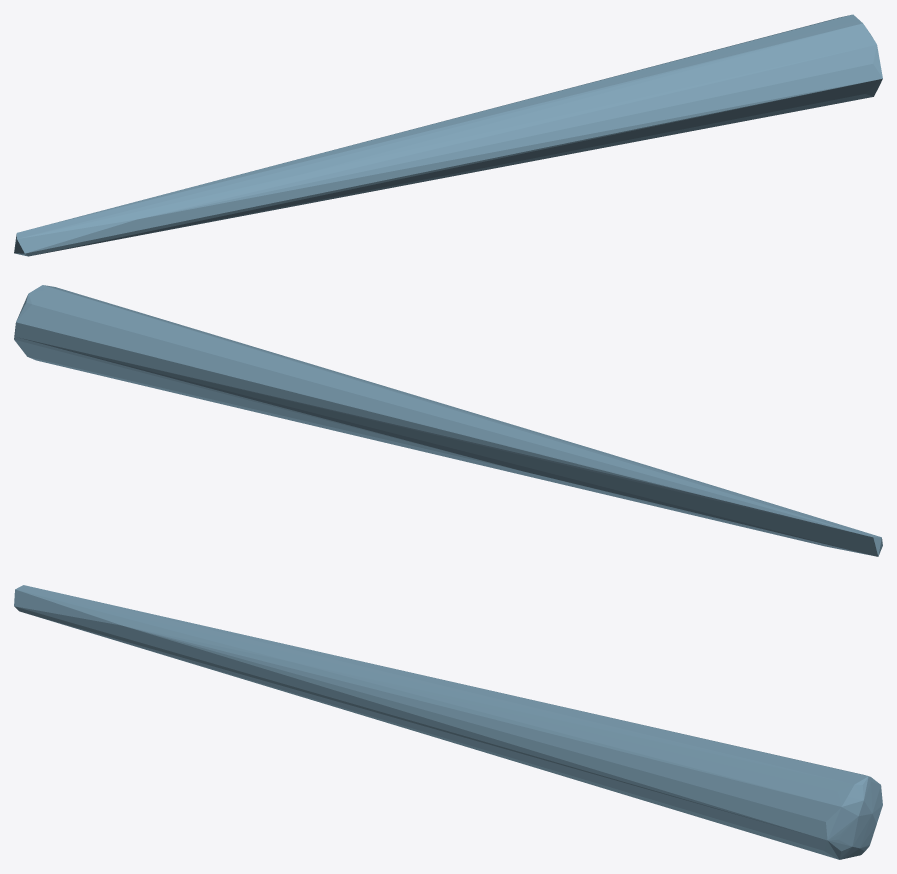
File: paint_supplies_brush_a08.glb
3 views of the same model, one above another, from view 1: azimuth 30°, elevation 25°; view 2: azimuth 150°, elevation 25°; view 3: azimuth 330°, elevation 25° (orthographic). The views are drawn at different scales.
Visible parts, largest first — view 1: geometry_0; view 2: geometry_0; view 3: geometry_0.
Boxes of the visible parts, x1=… form: geometry_0: x1=14, y1=14, x2=882, y2=256; geometry_0: x1=14, y1=285, x2=882, y2=556; geometry_0: x1=14, y1=585, x2=882, y2=859.
Bounding box in the file's own units: 0.4781 × 0.0384 × 0.0484.
